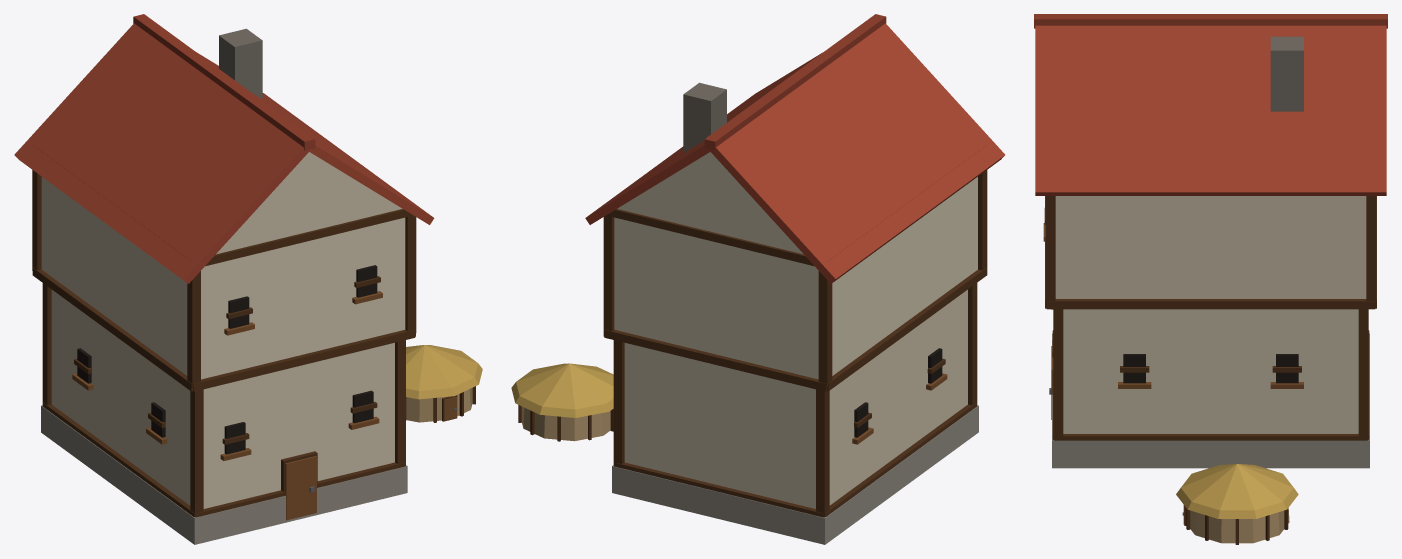
File: human_hall_broken.glb
The picture shows the model from 3 angles, left to right: view 1: azimuth 30°, elevation 25°; view 2: azimuth 150°, elevation 25°; view 3: azimuth 270°, elevation 25°; orthographic projection. The views are drawn at different scales.
Visible parts, largest first — view 1: human_hall_piece5, human_hall_piece4, human_hall_piece8, human_hall_piece2, human_hall_piece3, human_hall_piece1, human_hall_piece11, human_hall_piece6, human_hall_piece7, human_hall_piece12, human_hall_piece0, human_hall_piece9; view 2: human_hall_piece0, human_hall_piece9, human_hall_piece2, human_hall_piece5, human_hall_piece1, human_hall_piece8, human_hall_piece11, human_hall_piece12, human_hall_piece6, human_hall_piece7, human_hall_piece13; view 3: human_hall_piece7, human_hall_piece6, human_hall_piece1, human_hall_piece3, human_hall_piece2, human_hall_piece0, human_hall_piece9, human_hall_piece10, human_hall_piece13, human_hall_piece4, human_hall_piece5.
Boxes of the visible parts, left/top/right/bottom form: human_hall_piece5: left=113, top=130, right=337, bottom=511; human_hall_piece4: left=185, top=152, right=420, bottom=544; human_hall_piece8: left=77, top=263, right=366, bottom=543; human_hall_piece2: left=32, top=84, right=378, bottom=359; human_hall_piece3: left=105, top=167, right=434, bottom=518; human_hall_piece1: left=60, top=14, right=298, bottom=155; human_hall_piece11: left=41, top=267, right=106, bottom=479; human_hall_piece6: left=406, top=345, right=482, bottom=422; human_hall_piece7: left=175, top=28, right=418, bottom=206; human_hall_piece12: left=14, top=93, right=87, bottom=282; human_hall_piece0: left=32, top=209, right=59, bottom=421; human_hall_piece9: left=46, top=58, right=270, bottom=119; human_hall_piece0: left=612, top=263, right=838, bottom=544; human_hall_piece9: left=585, top=181, right=808, bottom=403; human_hall_piece2: left=766, top=23, right=933, bottom=417; human_hall_piece5: left=864, top=14, right=1005, bottom=413; human_hall_piece1: left=595, top=99, right=846, bottom=238; human_hall_piece8: left=860, top=262, right=977, bottom=496; human_hall_piece11: left=824, top=362, right=889, bottom=544; human_hall_piece12: left=783, top=202, right=853, bottom=383; human_hall_piece6: left=511, top=363, right=613, bottom=431; human_hall_piece7: left=623, top=67, right=818, bottom=190; human_hall_piece13: left=523, top=396, right=604, bottom=441; human_hall_piece7: left=1063, top=14, right=1313, bottom=351; human_hall_piece6: left=1116, top=195, right=1308, bottom=544; human_hall_piece1: left=1222, top=14, right=1387, bottom=389; human_hall_piece3: left=1035, top=127, right=1128, bottom=468; human_hall_piece2: left=1059, top=14, right=1195, bottom=146; human_hall_piece0: left=1277, top=196, right=1376, bottom=468; human_hall_piece9: left=1300, top=129, right=1386, bottom=375; human_hall_piece10: left=1198, top=335, right=1280, bottom=468; human_hall_piece13: left=1257, top=281, right=1333, bottom=532; human_hall_piece4: left=1035, top=58, right=1078, bottom=345; human_hall_piece5: left=1034, top=14, right=1068, bottom=207.
Size of the model in its own units: 5.27 by 5.01 by 4.03.
